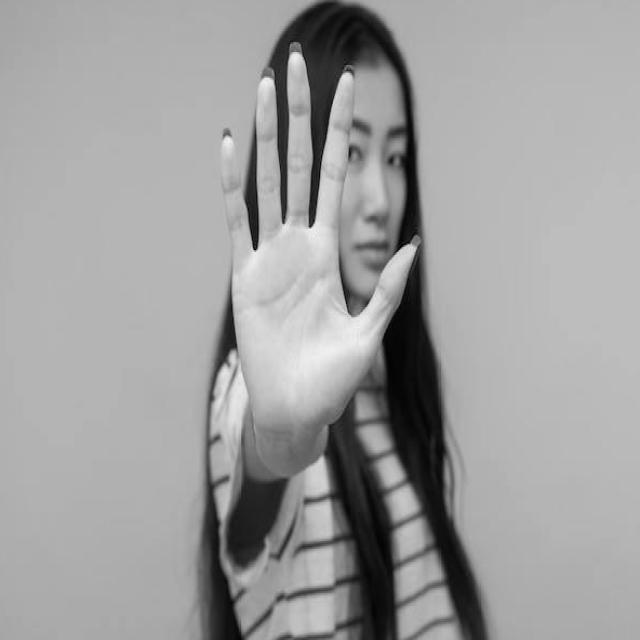stop: (217, 35, 426, 444)
